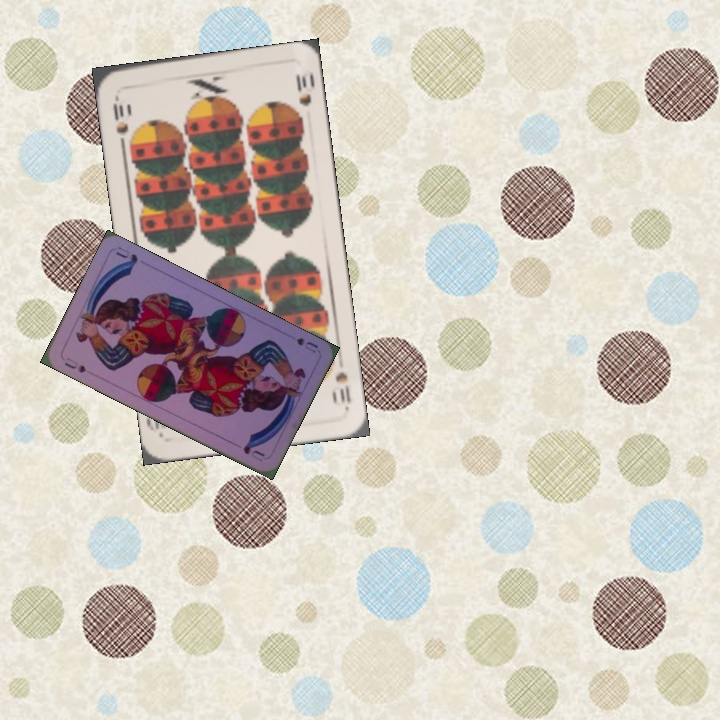S10: (326, 354, 353, 412), (108, 91, 131, 136)
SU: (60, 353, 89, 376), (292, 334, 321, 356)
